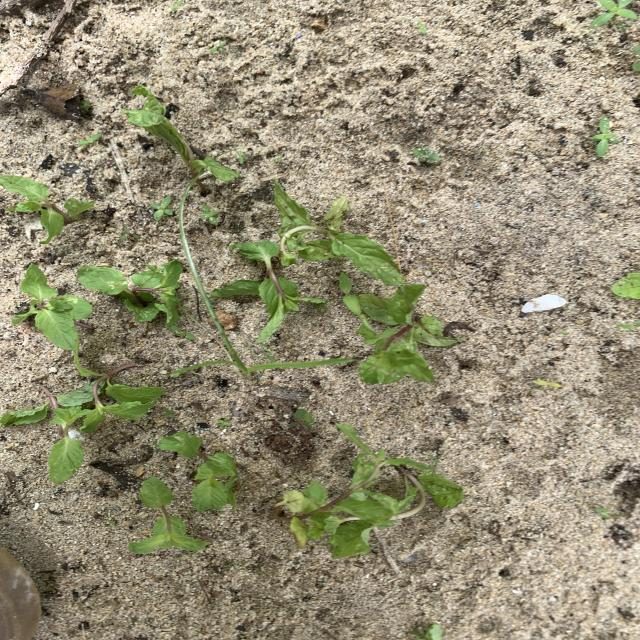crop: (276, 424, 463, 559), (274, 183, 405, 287), (123, 86, 239, 192), (358, 284, 459, 384), (211, 240, 300, 343), (0, 386, 93, 484), (74, 343, 165, 431), (77, 260, 183, 332), (12, 265, 92, 351), (0, 175, 94, 244), (159, 432, 238, 511), (128, 477, 209, 554)
weed: (171, 191, 354, 377), (588, 117, 620, 159), (590, 0, 638, 27), (339, 273, 361, 316), (150, 196, 174, 221), (197, 203, 218, 228), (289, 408, 314, 429), (166, 325, 196, 341), (75, 132, 101, 148), (258, 343, 279, 362), (595, 506, 619, 521), (119, 226, 140, 242), (619, 320, 640, 334), (533, 380, 564, 389), (414, 22, 432, 37), (209, 40, 227, 54), (632, 44, 640, 72), (234, 152, 250, 165), (170, 0, 185, 13), (81, 99, 94, 111), (429, 454, 443, 465), (217, 418, 232, 428), (163, 408, 176, 419), (197, 422, 210, 429), (107, 520, 116, 527)
